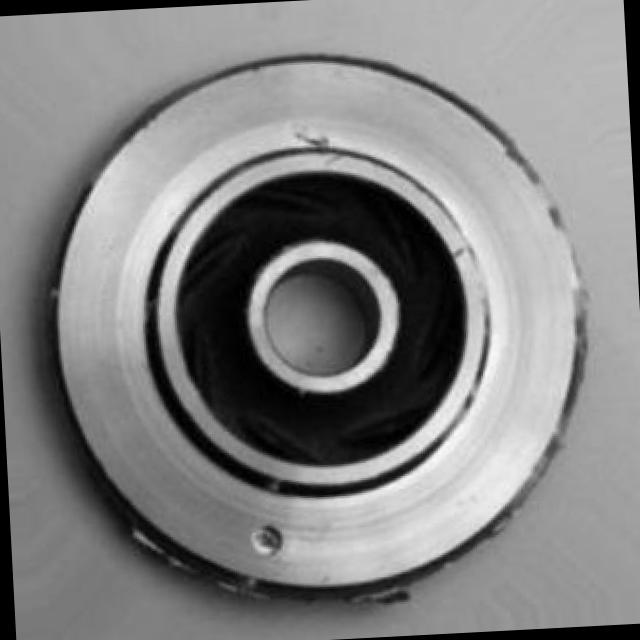Defect: (251, 513, 290, 566)
